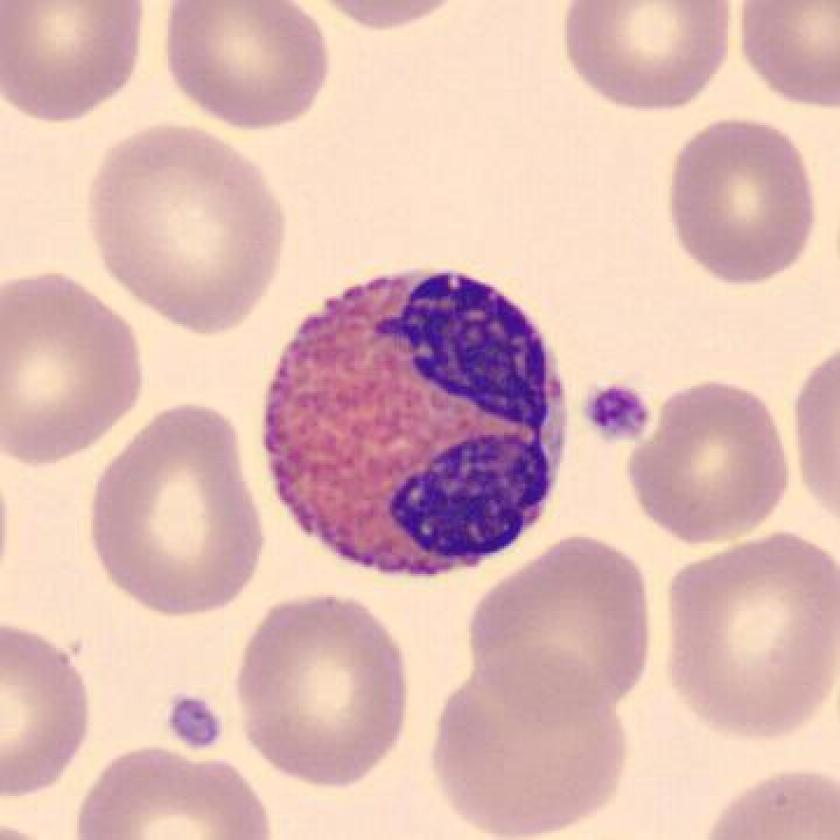eosinophil: (253, 256, 584, 589)
